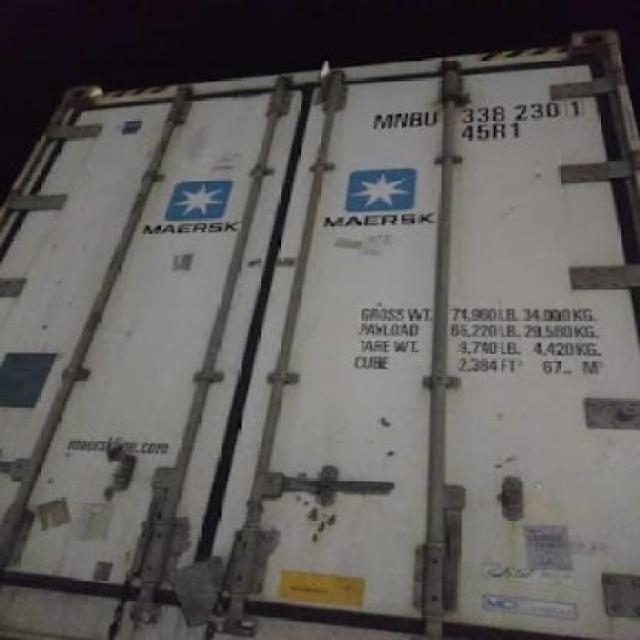ISO: (465, 128, 519, 144)
container_number: (372, 96, 586, 132)
